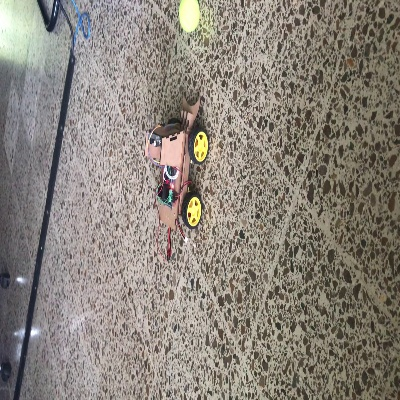Ball: (179, 0, 199, 31)
Robot: (143, 93, 209, 231)
